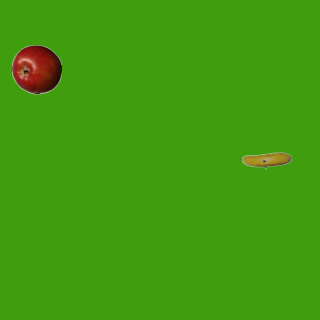Apple Braeburn: (11, 44, 61, 94)
Banana: (241, 135, 291, 185)
